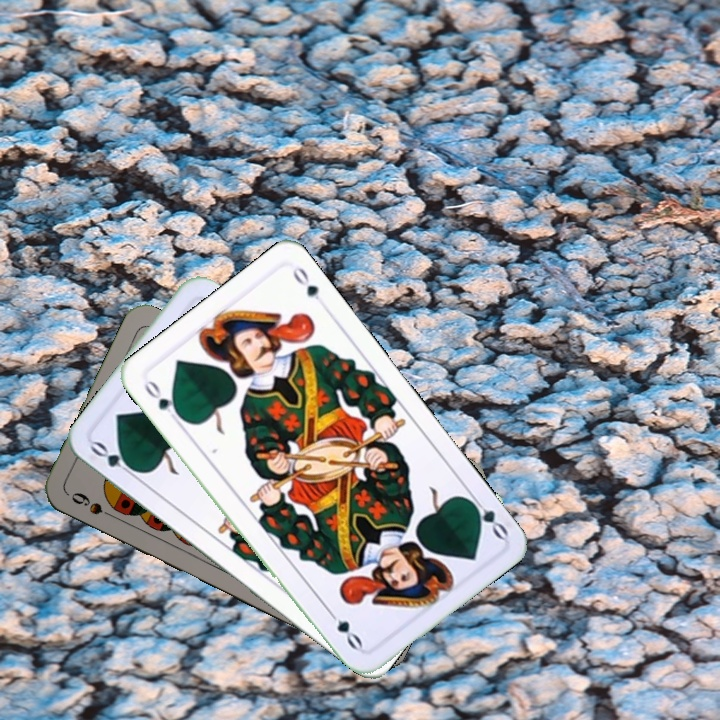GO: (463, 490, 511, 542), (86, 437, 142, 480), (139, 376, 185, 426)
S9: (67, 488, 121, 523)
